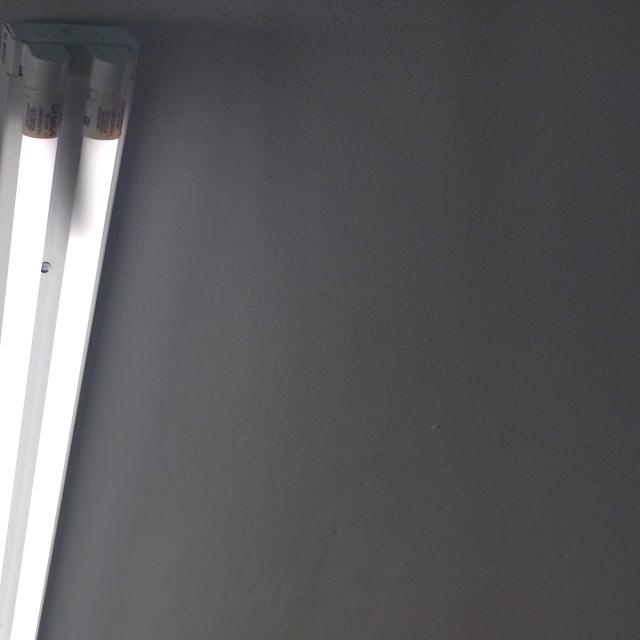fluorescent tube: (0, 15, 230, 640)
